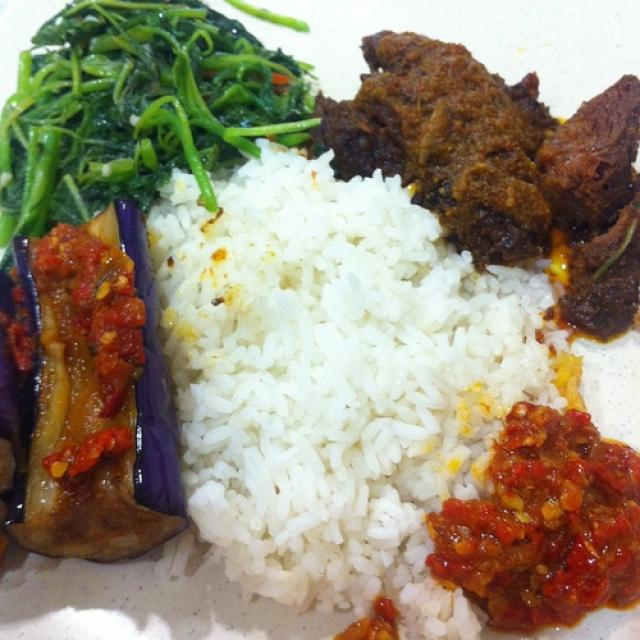米饭主食: (23, 21, 623, 613)
